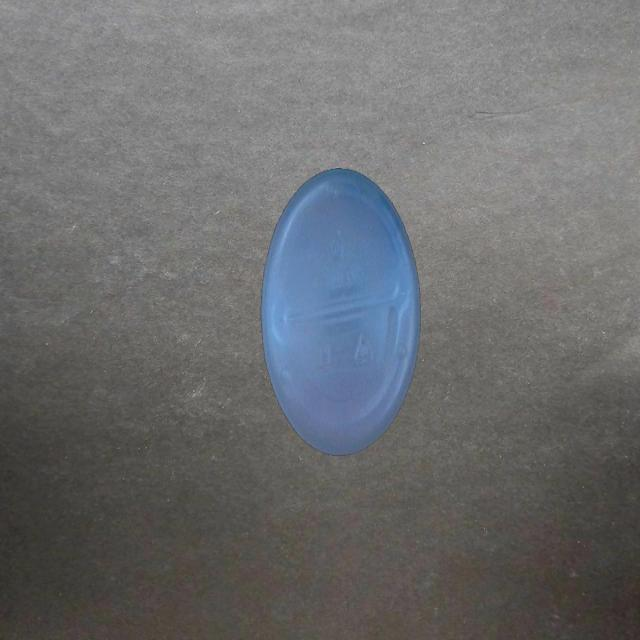bottle: (258, 163, 424, 463)
